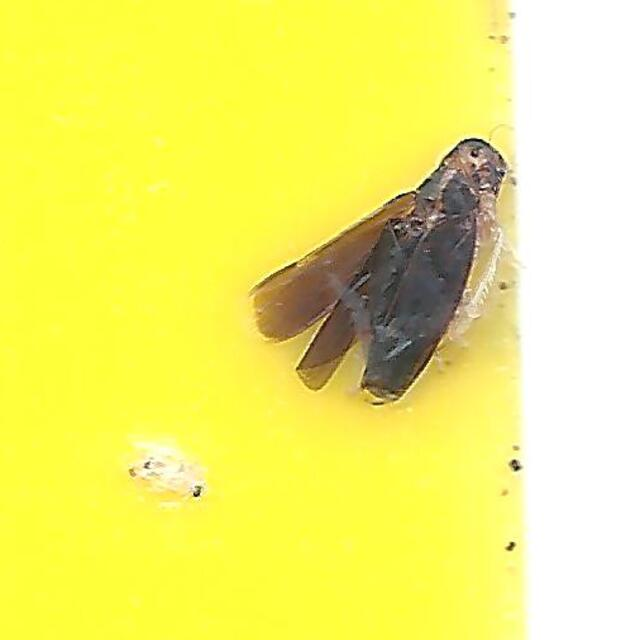Hemiptera: (245, 133, 514, 412), (126, 432, 205, 507)
